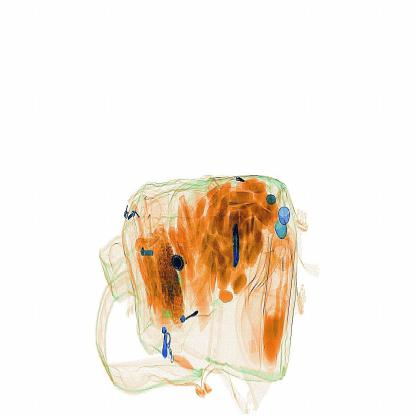knife: (226, 217, 248, 271)
